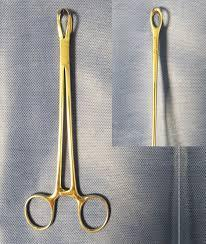Lane Tissue Forceps: (19, 4, 118, 237)
